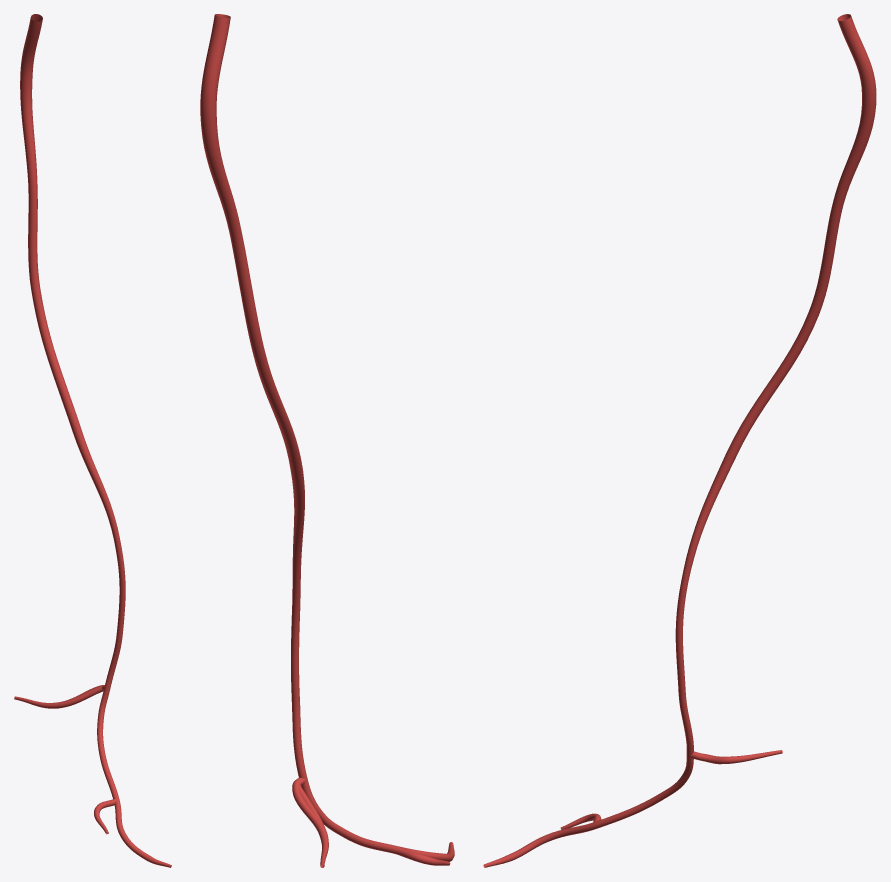
The picture shows the model from 3 angles, left to right: view 1: azimuth 30°, elevation 25°; view 2: azimuth 150°, elevation 25°; view 3: azimuth 270°, elevation 25°; orthographic projection. The views are drawn at different scales.
Parts seen in each view (by area): view 1: 左侧滑车上动脉; view 2: 左侧滑车上动脉; view 3: 左侧滑车上动脉.
Boxes of the visible parts, bbox=[...] form: 左侧滑车上动脉: bbox=[14, 14, 171, 867]; 左侧滑车上动脉: bbox=[200, 14, 454, 867]; 左侧滑车上动脉: bbox=[483, 14, 876, 867].
Size of the model in its own units: 0.00773 by 0.0772 by 0.0318.
